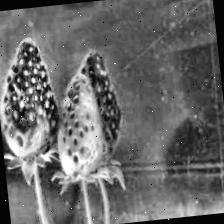Powdery Mildew Fruit: (47, 50, 127, 179), (0, 34, 64, 162)
